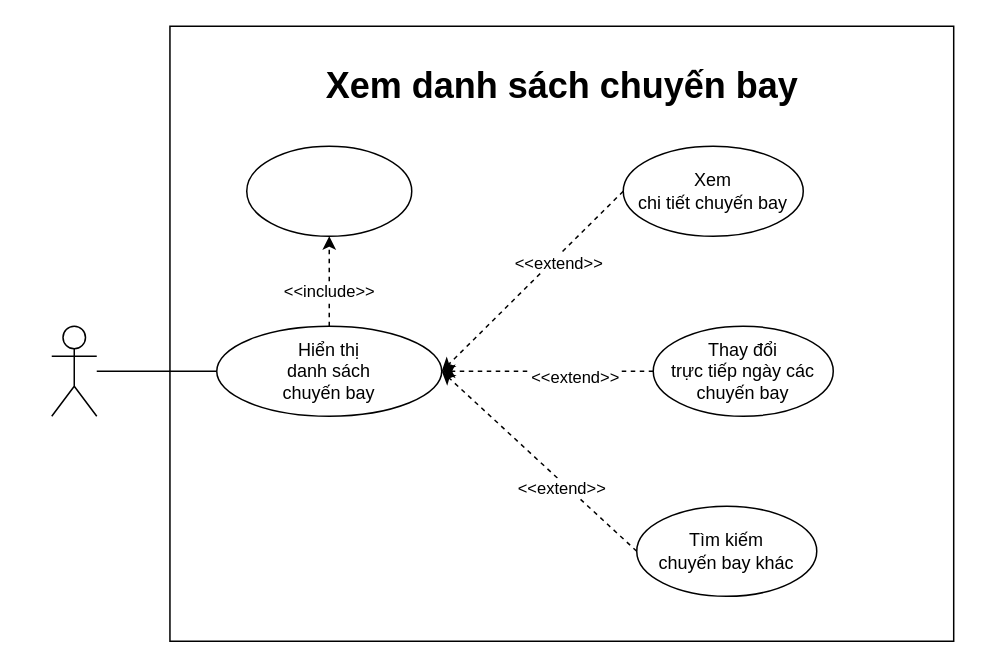
Image size: 981x668. Some labels were removed from this diagram. Each missing label, with the box of its shape:
Khách hàng: (50, 325, 97, 416)
Tìm kiếm chuyến bay: (245, 145, 412, 236)
